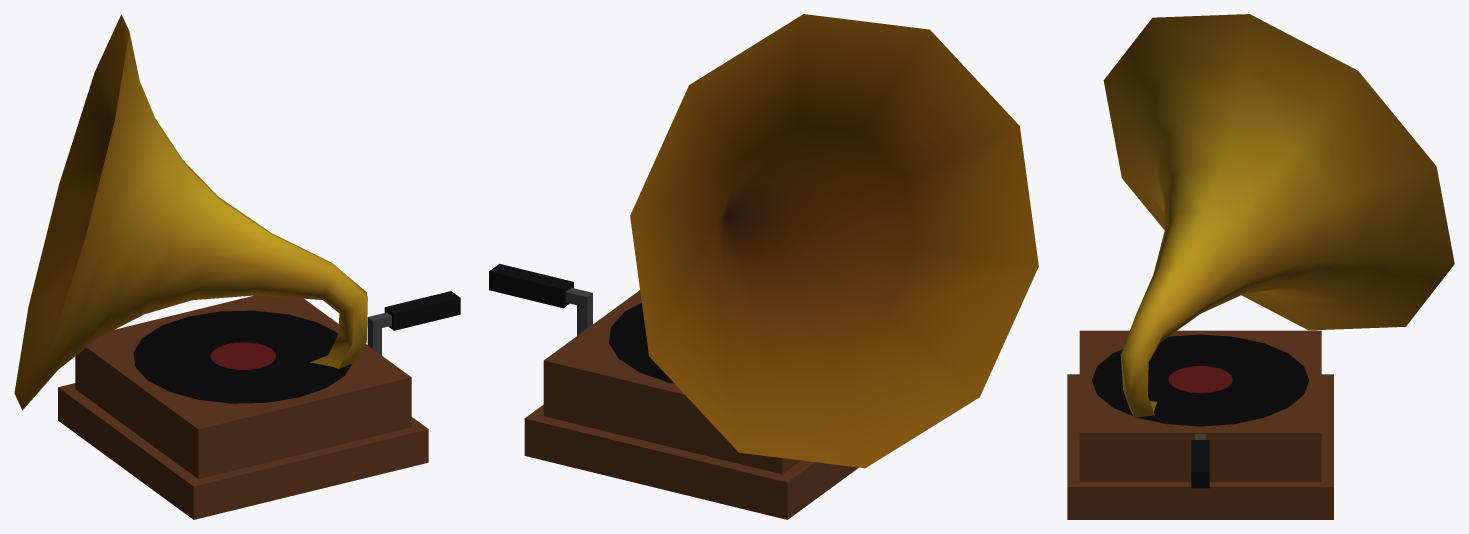
The model's file is hat_gramaphone.glb.
3 renders of one model, left to right at view 1: azimuth 30°, elevation 25°; view 2: azimuth 150°, elevation 25°; view 3: azimuth 270°, elevation 25°, orthographic. The views are drawn at different scales.
Visible parts, largest first — view 1: hat_gramaphone; view 2: hat_gramaphone; view 3: hat_gramaphone.
Boxes of the visible parts, x1,y1,x2,y2 form: hat_gramaphone: [14, 14, 460, 519]; hat_gramaphone: [489, 14, 1038, 519]; hat_gramaphone: [1067, 14, 1454, 519].
Size of the model in its own units: 0.5151 by 0.4561 by 0.3937.
